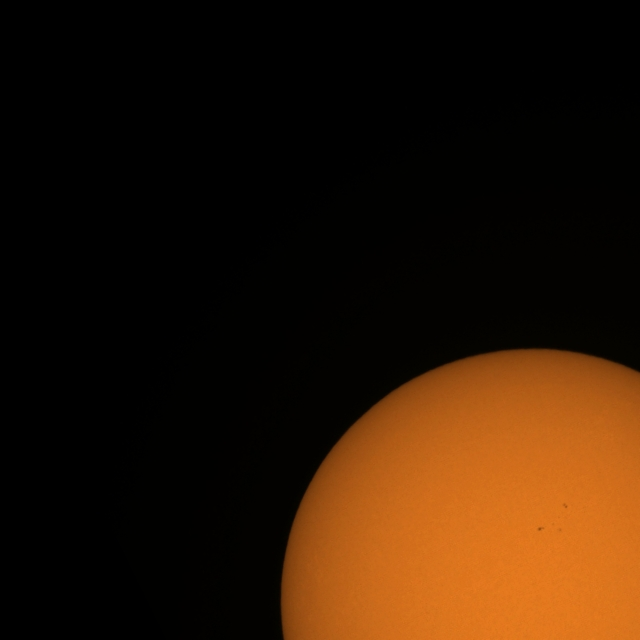sunspot: (537, 522, 563, 533), (536, 526, 546, 532), (562, 502, 569, 509), (556, 526, 562, 532)
